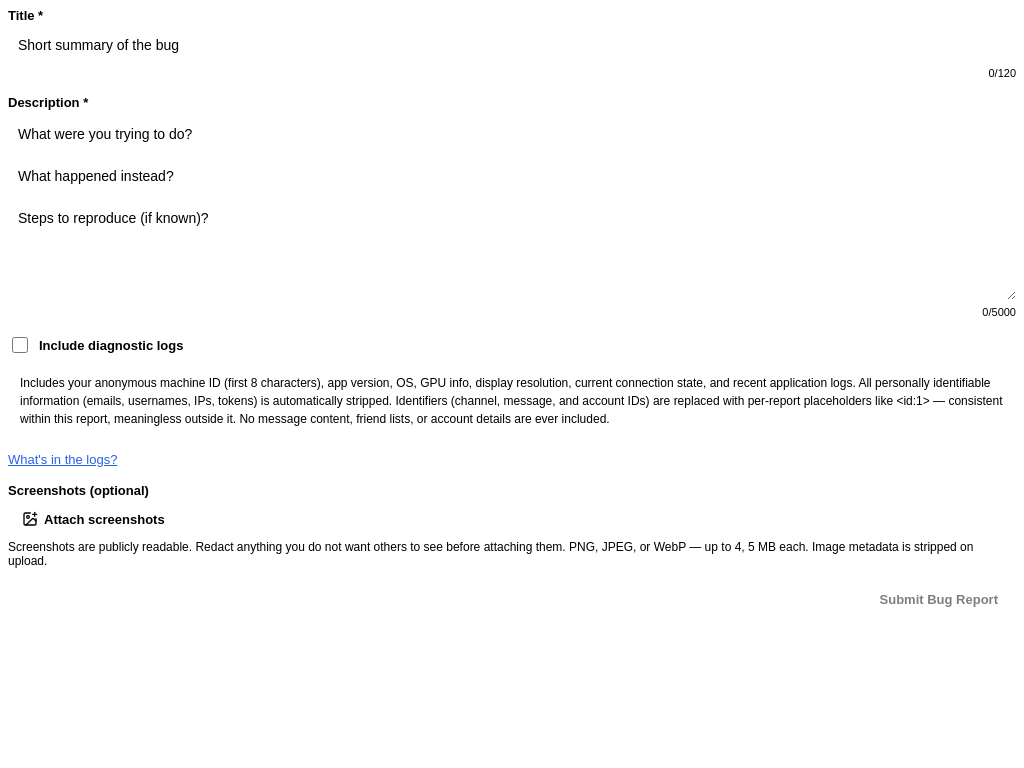
Test: BugReportPanel › validation › enables submit when both fields are valid
Type "Crash on send" into the field labelled "Title *" at (512,45), box x1=8 y1=29 x2=1016 y2=61
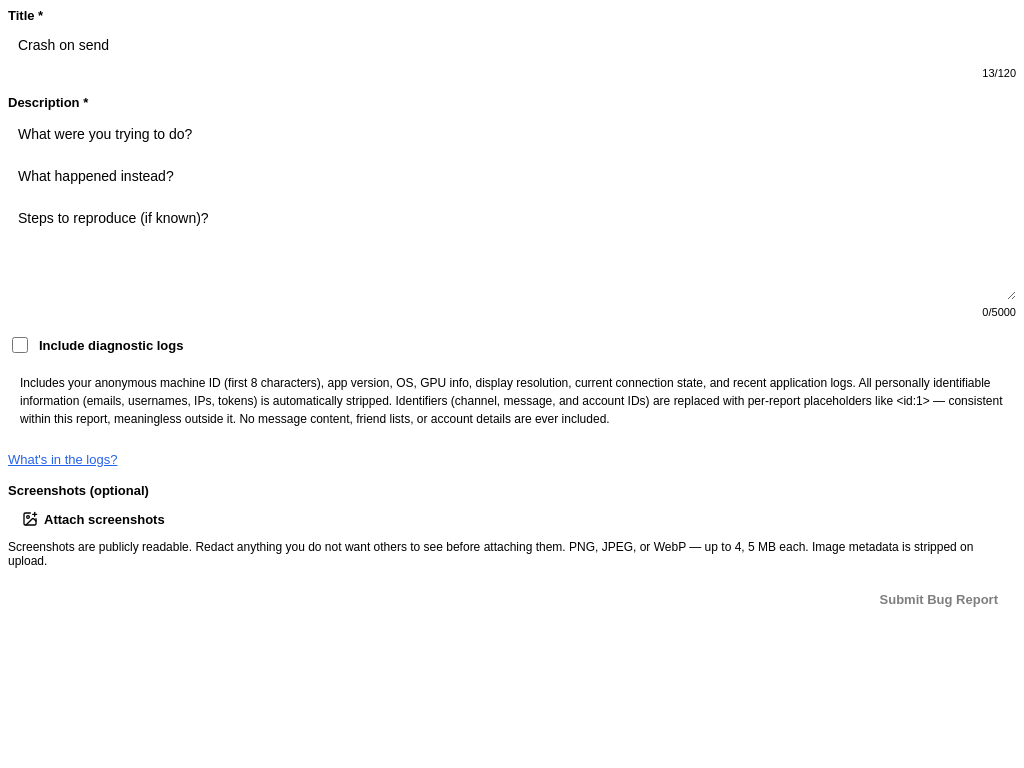
Replace the text in the text box labelled "Description *" with "It crashed when I clicked send." at (512,208), box x1=8 y1=116 x2=1016 y2=300
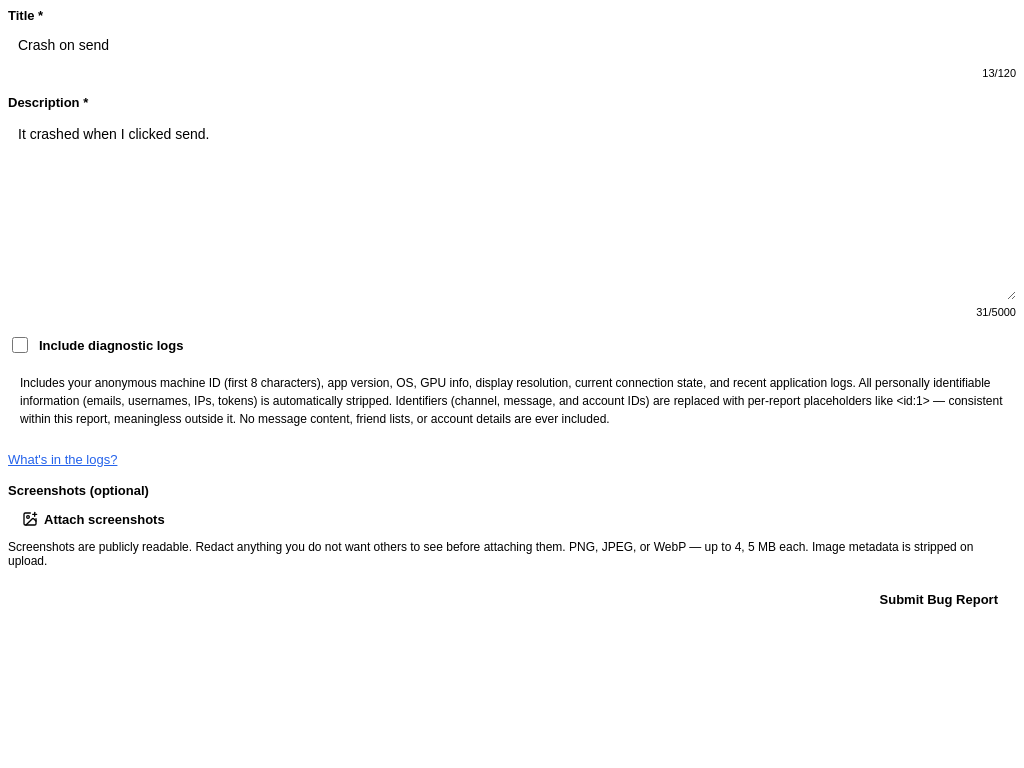
Check: the button "Submit Bug Report" is enabled, box x1=862 y1=584 x2=1016 y2=615
